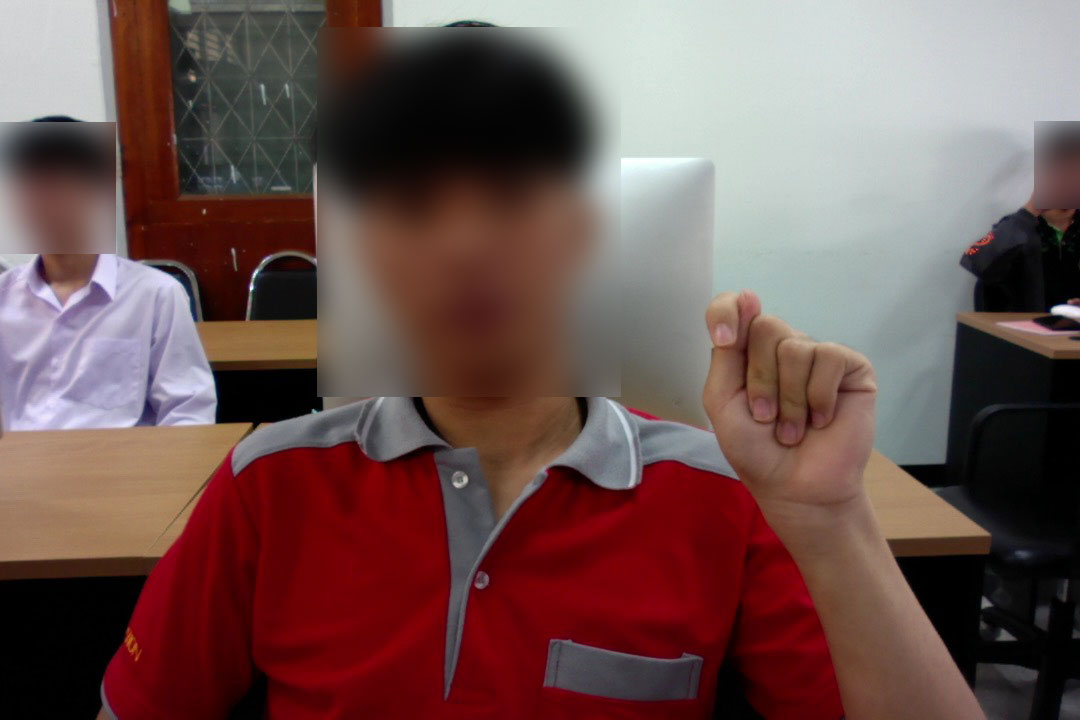tor: (699, 286, 883, 532)
